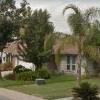Palm tree: (65, 3, 92, 77)
